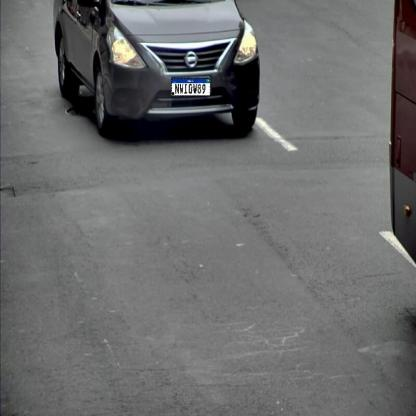PlacaM: (171, 78, 211, 96)
